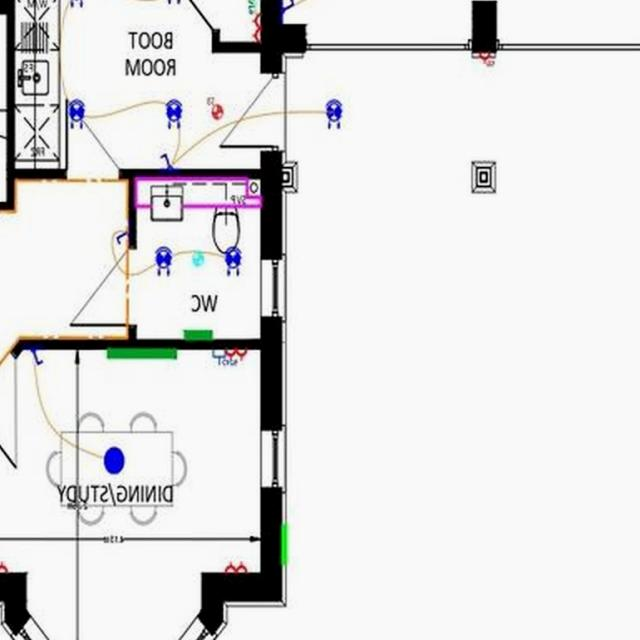Ceiling Mounted Continuous Extract FanWith Boost Mode Activated By Light Switch: (193, 250, 204, 264)
Ceiling Mounted Continuous Extract FanWith Local Boost Switch: (207, 96, 224, 120)
Double Socket: (225, 347, 248, 361), (252, 13, 262, 40), (226, 561, 247, 572), (0, 561, 9, 572)
Fused spur: (480, 52, 494, 66)
Gas Meter Box: (282, 523, 288, 564)
Light Switch: (117, 228, 130, 244), (32, 349, 44, 365), (161, 153, 174, 167), (285, 0, 298, 10)
Low Energy Downlighter: (155, 245, 174, 275), (225, 246, 243, 276), (68, 99, 86, 128), (326, 99, 344, 128), (166, 98, 183, 128)
Low Energy Pendant Light: (104, 446, 125, 474)
Radiator: (107, 348, 178, 358), (184, 329, 213, 339)
